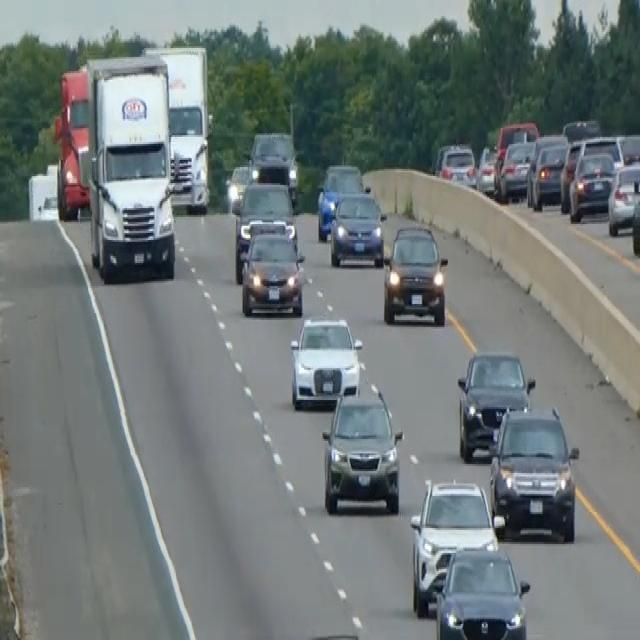car: (409, 476, 500, 617), (488, 402, 579, 542), (320, 386, 403, 516), (434, 542, 531, 638), (456, 347, 535, 462), (289, 313, 362, 409), (382, 222, 448, 326), (232, 179, 298, 281), (240, 228, 305, 316), (329, 188, 386, 266), (247, 130, 299, 204), (316, 162, 365, 240), (568, 148, 616, 222), (526, 138, 569, 210), (607, 160, 639, 235), (498, 139, 535, 201), (437, 140, 477, 188), (224, 162, 251, 212), (476, 144, 498, 196), (562, 116, 601, 142), (617, 132, 639, 166), (631, 169, 639, 256)
lorry: (83, 53, 177, 283)
